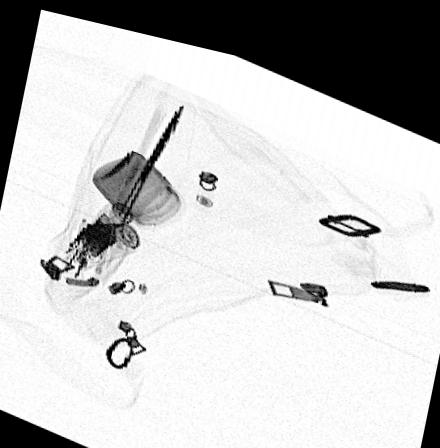Scissors: (71, 92, 186, 263)
